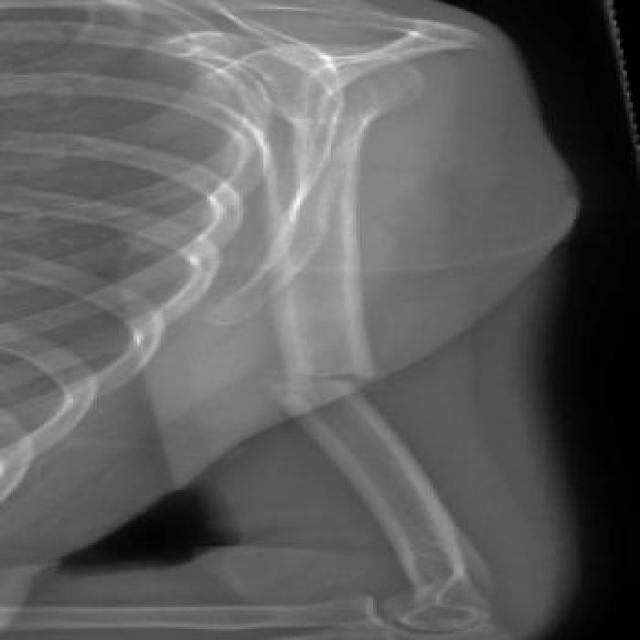Fracture: (242, 354, 412, 416)
